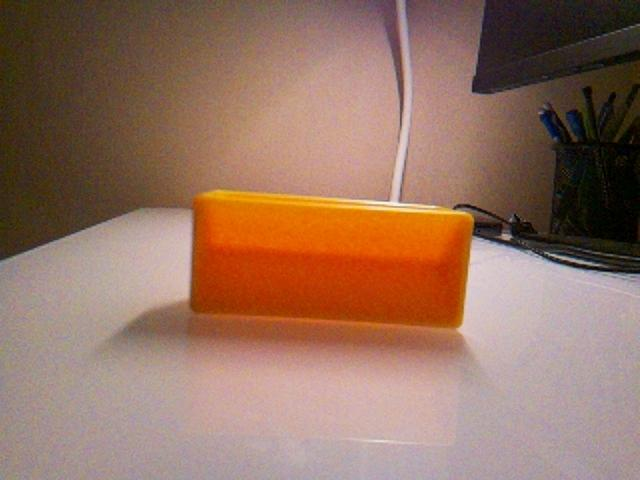yellow: (189, 187, 475, 330)
